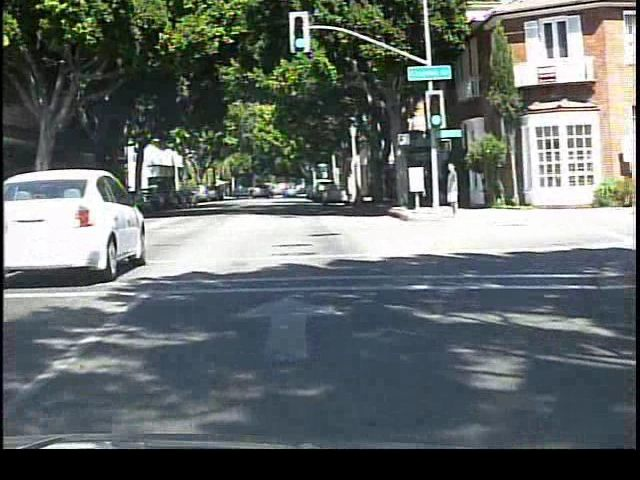person: (442, 158, 464, 219)
